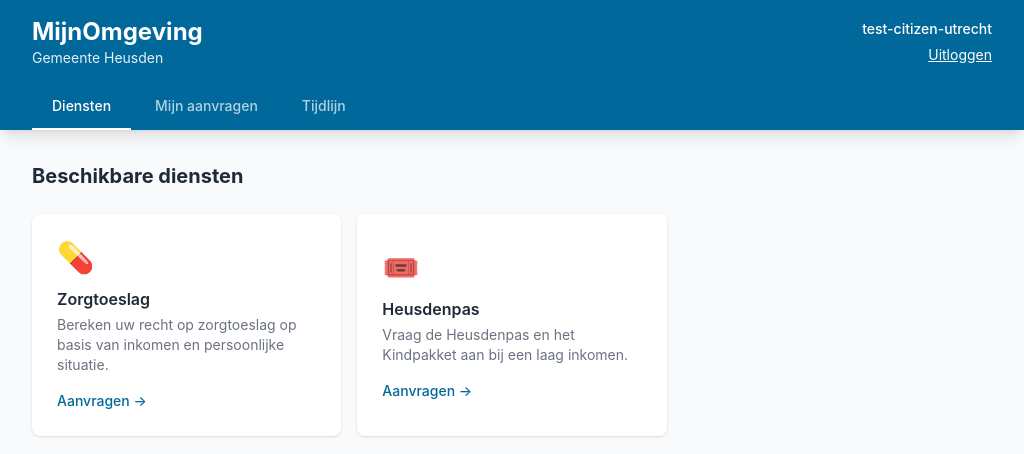
Scenario: Dashboard Heusdenpas › names a Heusdenpas application in Mijn aanvragen
The width and height of the screenshot is (1024, 454).
Click the button "Mijn aanvragen".
click(206, 107)  # box top-left (135, 84), bottom-right (278, 130)
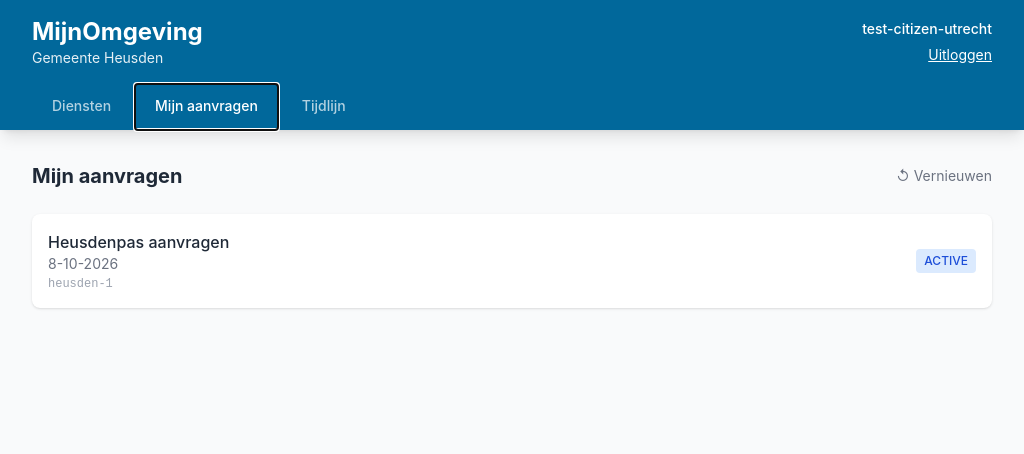
Check: the text "Heusdenpas aanvragen" is shown, box top-left (48, 230), bottom-right (229, 254)
